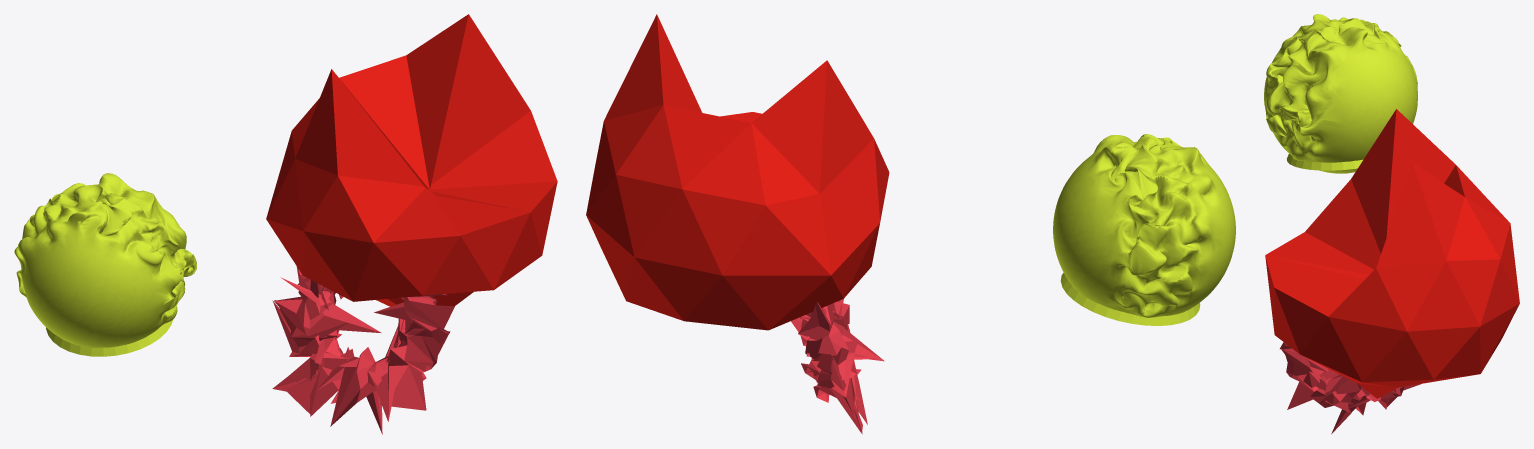
The model's file is domesticpleasures.glb.
3 views of the same model, side by side, from view 1: azimuth 30°, elevation 25°; view 2: azimuth 150°, elevation 25°; view 3: azimuth 270°, elevation 25° (orthographic). The views are drawn at different scales.
Visible parts, largest first — view 1: Icosphere, Quad Sphere, Torus; view 2: Icosphere, Quad Sphere, Torus; view 3: Icosphere, Quad Sphere, Torus.
Boxes of the visible parts, x1,y1,x2,y2 form: Icosphere: [266, 14, 557, 306]; Quad Sphere: [14, 173, 196, 356]; Torus: [272, 266, 454, 434]; Icosphere: [586, 14, 889, 330]; Quad Sphere: [1053, 134, 1235, 325]; Torus: [791, 299, 884, 433]; Icosphere: [1265, 109, 1519, 398]; Quad Sphere: [1264, 14, 1417, 173]; Torus: [1280, 342, 1421, 433].
Bounding box in the file's own units: 9.55 × 6.09 × 4.27.
